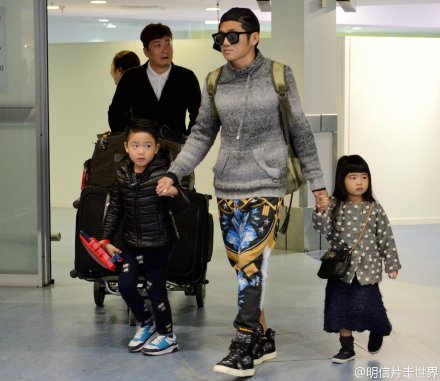other: (161, 7, 337, 375), (94, 122, 198, 363), (309, 138, 401, 365)
